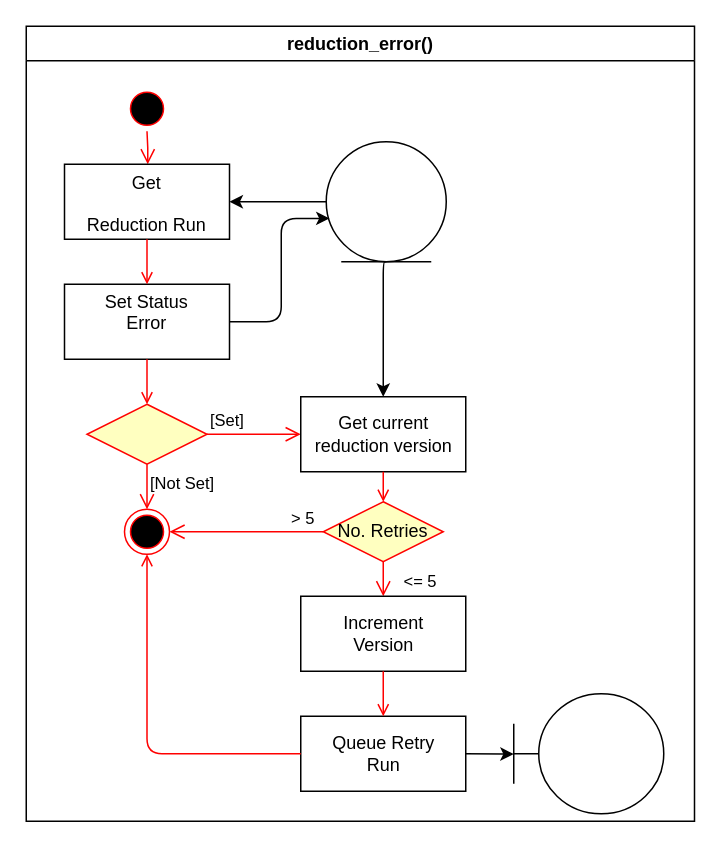
The diagram is 722 pixels wide and 848 high, and some of its shapes have lost their labels. Each missing label, with the centre of its shape:
Active MQ: point (588, 753)
Database: point (385, 201)
Retry In: point (146, 433)
